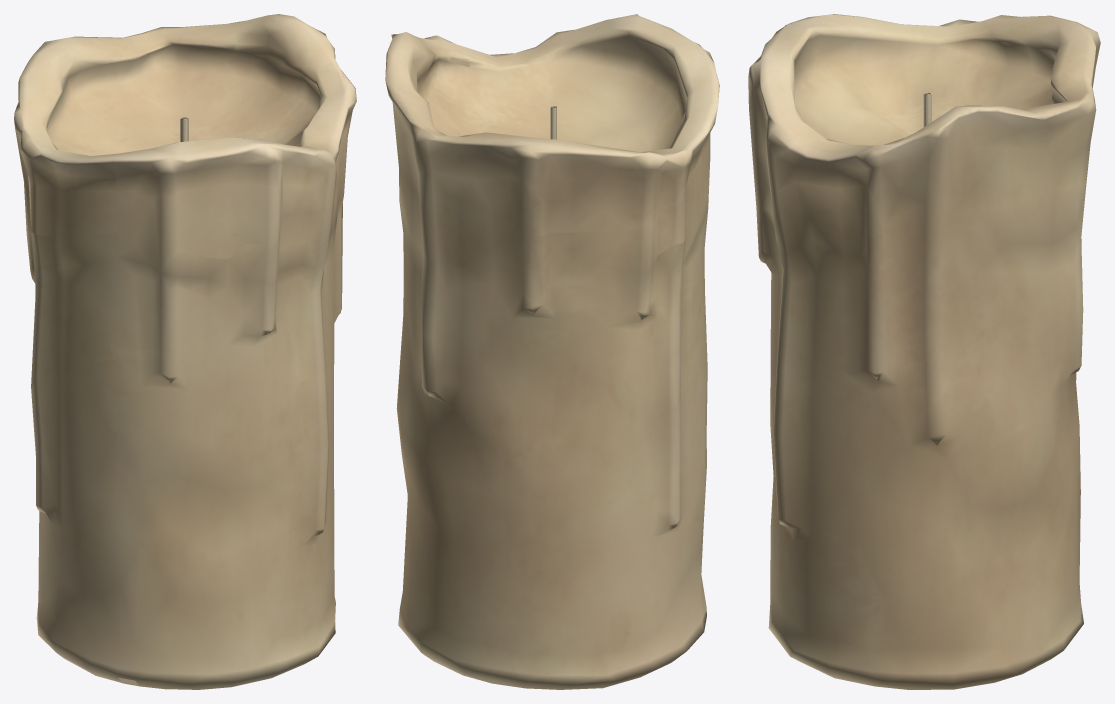
File: SM_Candle_C.fbx
The picture shows the model from 3 angles, left to right: view 1: azimuth 30°, elevation 25°; view 2: azimuth 150°, elevation 25°; view 3: azimuth 270°, elevation 25°; orthographic projection. The views are drawn at different scales.
Parts seen in each view (by area): view 1: SM_Candle_C_LOD0; view 2: SM_Candle_C_LOD0; view 3: SM_Candle_C_LOD0.
Boxes of the visible parts, x1=… form: SM_Candle_C_LOD0: x1=14, y1=14, x2=356, y2=689; SM_Candle_C_LOD0: x1=385, y1=14, x2=719, y2=689; SM_Candle_C_LOD0: x1=748, y1=14, x2=1100, y2=689.
Size of the model in its own units: 12.54 by 12.37 by 22.92.
